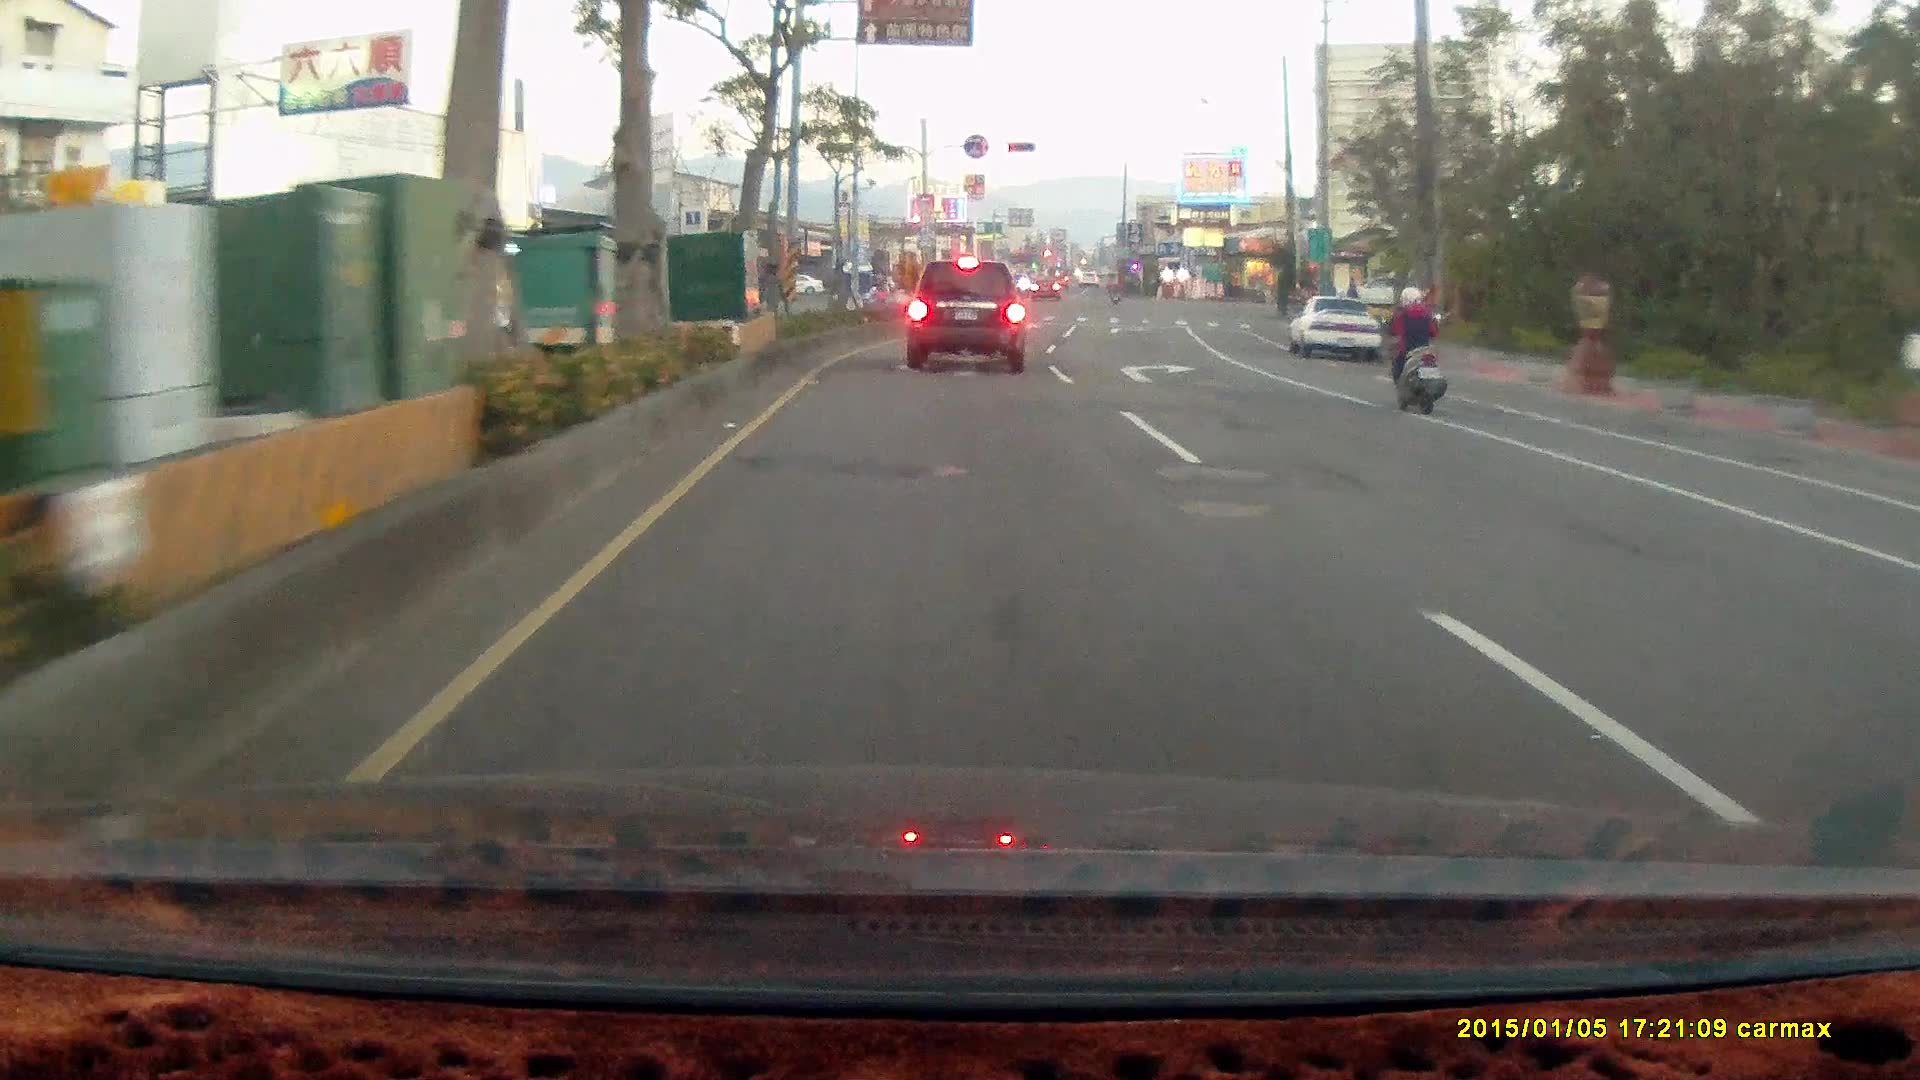rider: (1374, 282, 1448, 417)
vehicle: (904, 258, 1026, 373), (1896, 493, 1920, 836), (1284, 293, 1382, 364), (1290, 296, 1384, 368), (1883, 528, 1920, 690), (1331, 272, 1412, 308)
